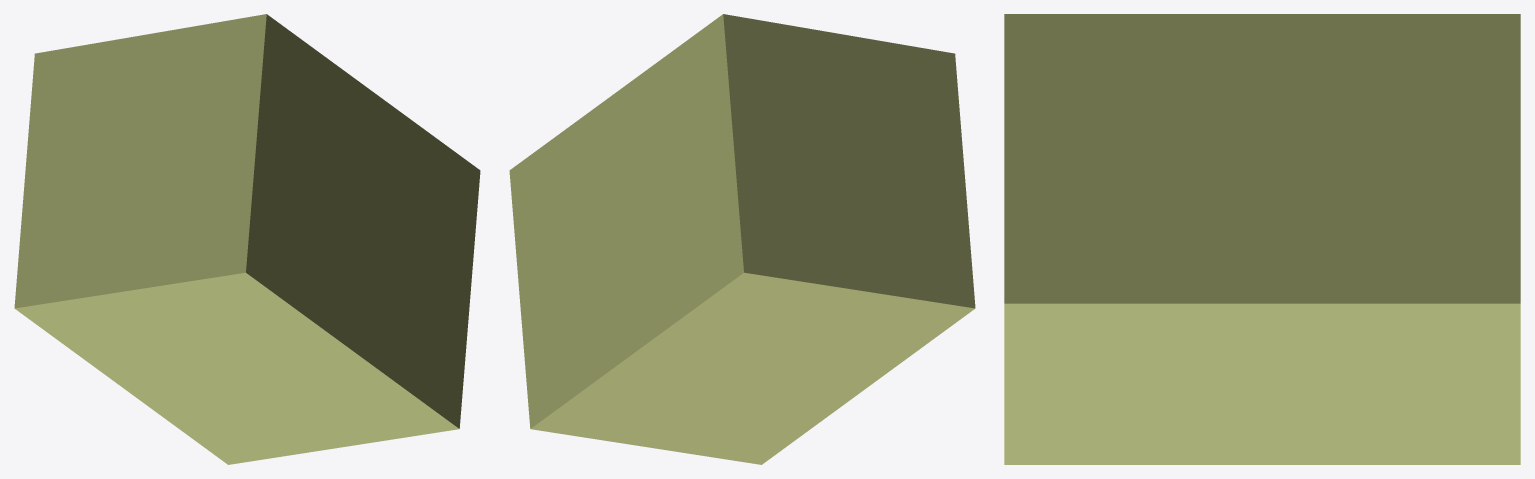
The picture shows the model from 3 angles, left to right: view 1: azimuth 30°, elevation 25°; view 2: azimuth 150°, elevation 25°; view 3: azimuth 270°, elevation 25°; orthographic projection. The views are drawn at different scales.
Parts seen in each view (by area): view 1: 0_3_2_0_1_3_1_3_0_2; view 2: 0_3_2_0_1_3_1_3_0_2; view 3: 0_3_2_0_1_3_1_3_0_2.
Part boxes in pixels (x1,y1,x2,y2): 0_3_2_0_1_3_1_3_0_2: (14, 14, 480, 464); 0_3_2_0_1_3_1_3_0_2: (509, 14, 975, 464); 0_3_2_0_1_3_1_3_0_2: (1004, 14, 1520, 464).
Size of the model in its own units: 6.13 by 6.29 by 9.
